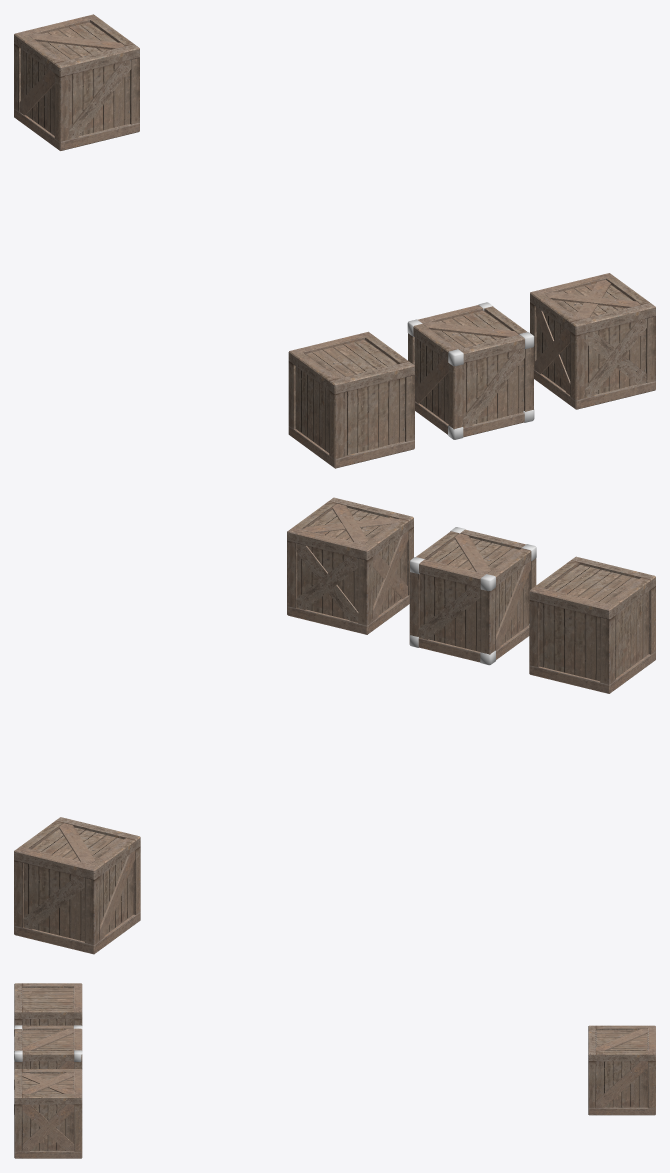
Rendered from boxes5_test9.gltf.
The picture shows the model from 3 angles, top to bottom: view 1: azimuth 30°, elevation 25°; view 2: azimuth 150°, elevation 25°; view 3: azimuth 270°, elevation 25°; orthographic projection. The views are drawn at different scales.
Visible parts, largest first — view 1: box0_main, box2_main, box1_main, box1_main.001, box1_plank4.001, box1_plank5.001, box1_plank2.001; view 2: box0_main, box2_main, box1_main, box1_main.001, box1_plank1.001, box1_plank2.001; view 3: box2_main, box1_main.001, box0_main, box1_main, box1_plank3.001, box1_plank5.001.
Part boxes in pixels (left/top/right/bottom): box0_main: left=288, top=331, right=414, bottom=468; box2_main: left=530, top=273, right=655, bottom=409; box1_main: left=408, top=305, right=533, bottom=437; box1_main.001: left=14, top=14, right=139, bottom=150; box1_plank4.001: left=69, top=60, right=131, bottom=139; box1_plank5.001: left=29, top=33, right=124, bottom=49; box1_plank2.001: left=19, top=70, right=54, bottom=115; box0_main: left=529, top=556, right=655, bottom=693; box2_main: left=287, top=497, right=413, bottom=634; box1_main: left=409, top=529, right=536, bottom=662; box1_main.001: left=14, top=817, right=140, bottom=954; box1_plank1.001: left=23, top=876, right=84, bottom=929; box1_plank2.001: left=100, top=850, right=135, bottom=940; box2_main: left=14, top=1069, right=82, bottom=1158; box1_main.001: left=588, top=1025, right=655, bottom=1115; box0_main: left=14, top=983, right=82, bottom=1025; box1_main: left=14, top=1025, right=82, bottom=1069; box1_plank3.001: left=596, top=1061, right=647, bottom=1108; box1_plank5.001: left=596, top=1029, right=647, bottom=1050.
Bounding box in the file's own units: 7.98 × 2.02 × 18.94.
Materials: 2 (2 with a texture image).
